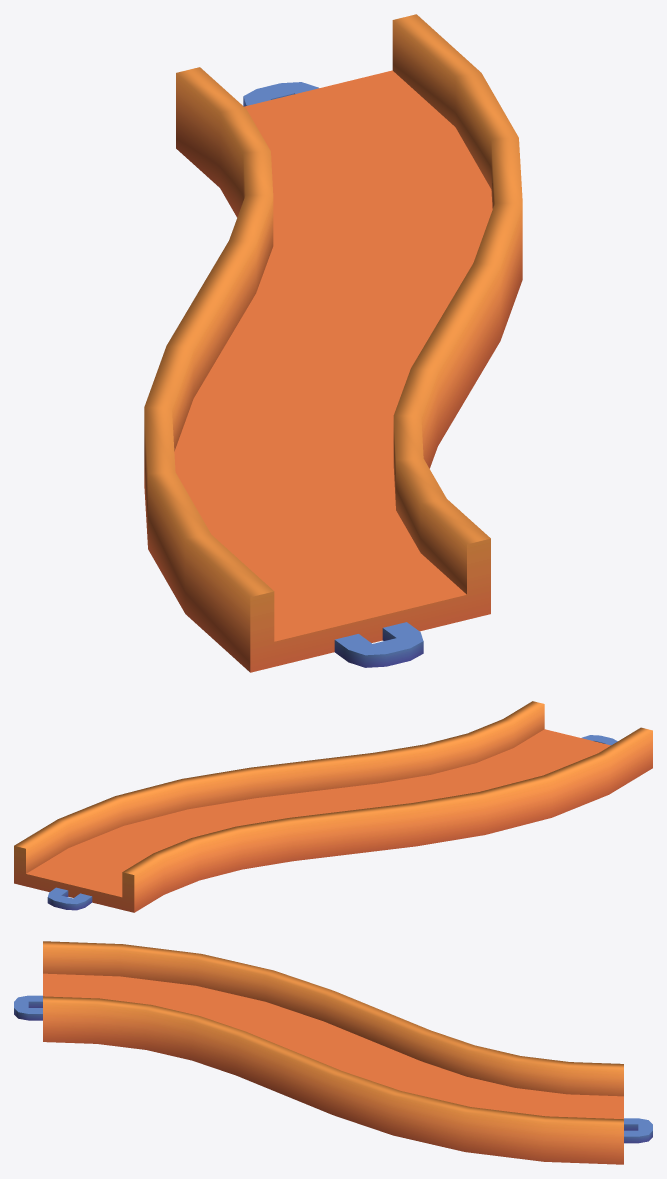
The model's file is kenney-toy-car-track-narrow-curve.glb.
3 views of the same model, one above another, from view 1: azimuth 30°, elevation 25°; view 2: azimuth 150°, elevation 25°; view 3: azimuth 270°, elevation 25° (orthographic). The views are drawn at different scales.
Parts seen in each view (by area): view 1: track-narrow-curve; view 2: track-narrow-curve; view 3: track-narrow-curve.
Part boxes in pixels (x1,y1,x2,y2): track-narrow-curve: (144, 14, 522, 672); track-narrow-curve: (14, 701, 652, 912); track-narrow-curve: (14, 941, 652, 1164).
Bounding box in the file's own units: 3 × 0.2997 × 4.4.
1 material, 1 textured.
